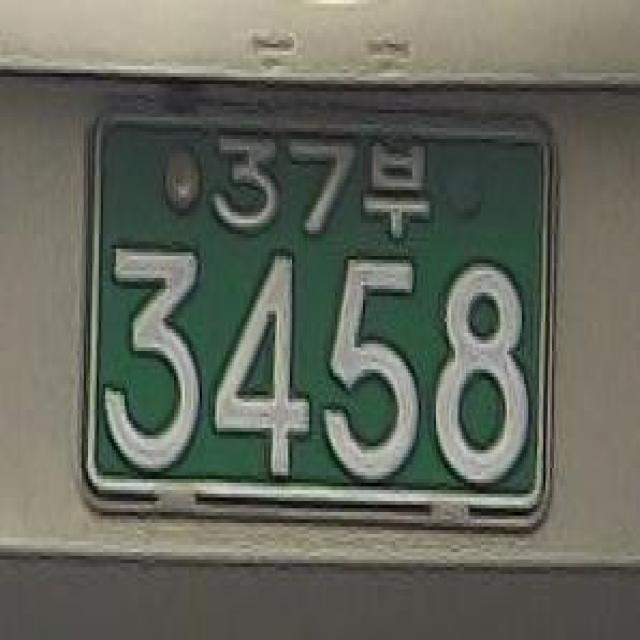illegal_plate: (64, 91, 573, 560)
